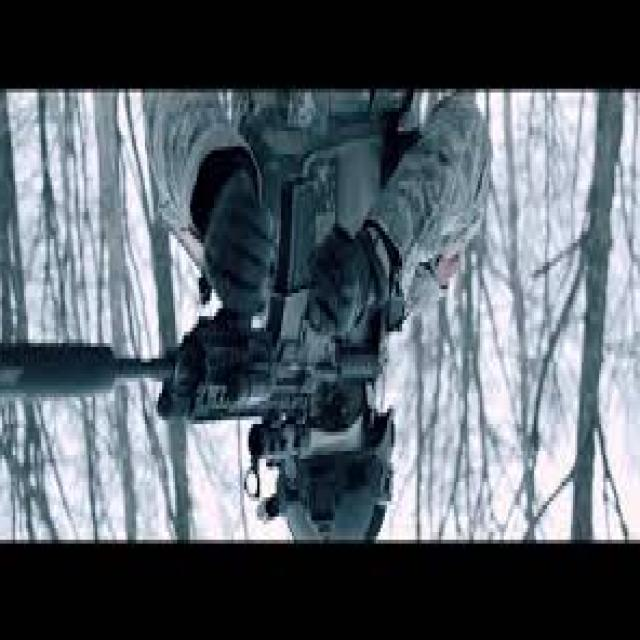gun: (0, 182, 411, 498)
